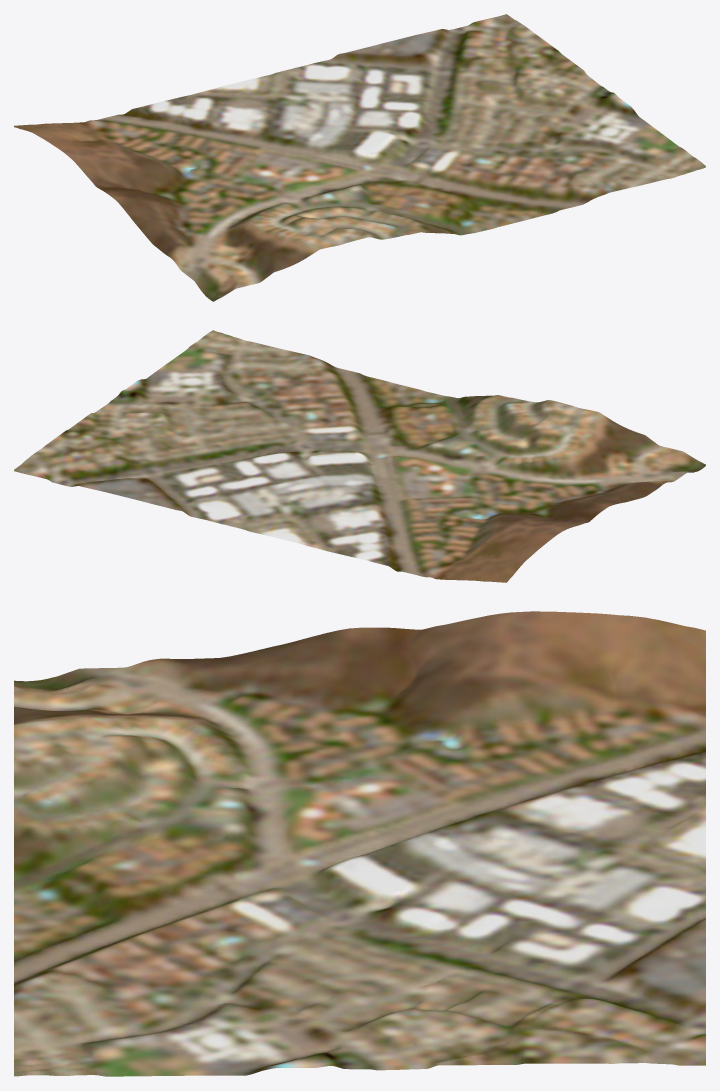
The model's file is terrain_r5_c6.glb.
3 renders of one model, top to bottom at view 1: azimuth 30°, elevation 25°; view 2: azimuth 150°, elevation 25°; view 3: azimuth 270°, elevation 25°, orthographic. The views are drawn at different scales.
Parts seen in each view (by area): view 1: terrain_r5_c6_lod0; view 2: terrain_r5_c6_lod0; view 3: terrain_r5_c6_lod0.
Part boxes in pixels (box(x1,y1,x2,y2)): terrain_r5_c6_lod0: box(14, 14, 705, 301); terrain_r5_c6_lod0: box(14, 330, 705, 582); terrain_r5_c6_lod0: box(14, 611, 705, 1076).
Size of the model in its own units: 1125 by 90.71 by 787.
Materials: 1 (1 with a texture image).
